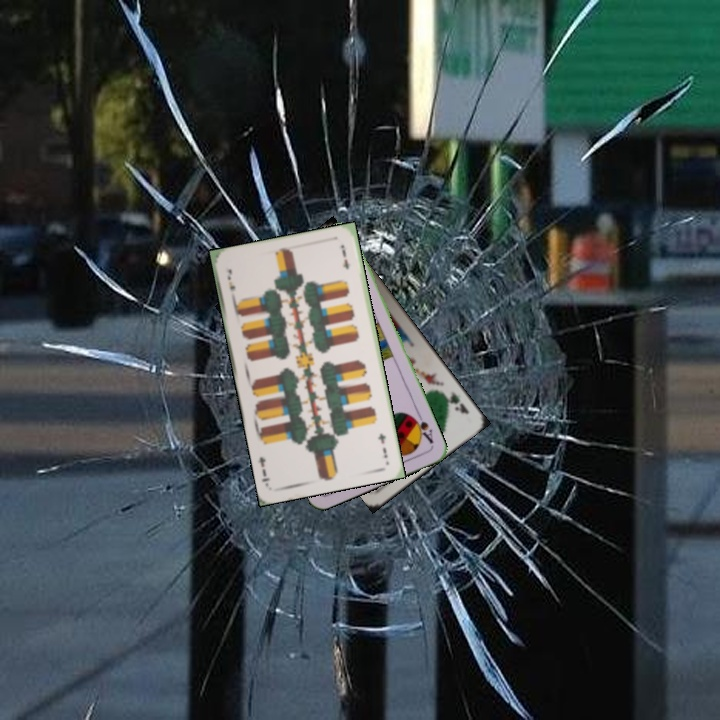E7: (223, 265, 238, 303), (374, 429, 390, 461)
GK: (438, 387, 471, 417)
SA: (408, 409, 436, 446)
